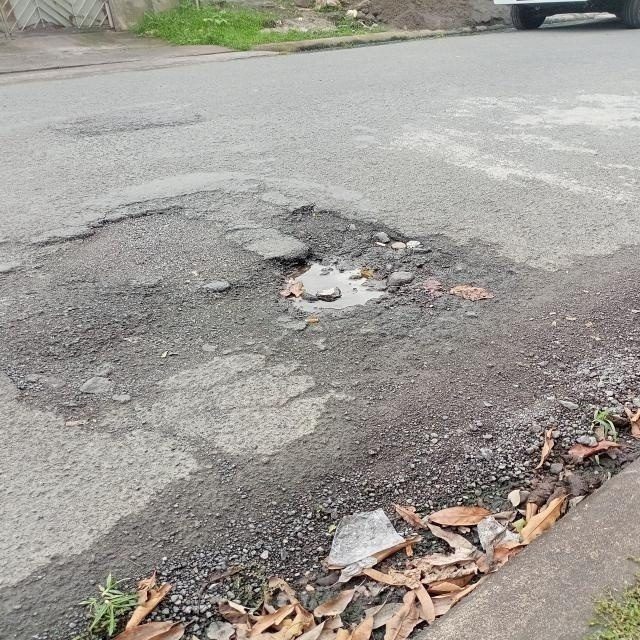pothole: (254, 248, 407, 324)
